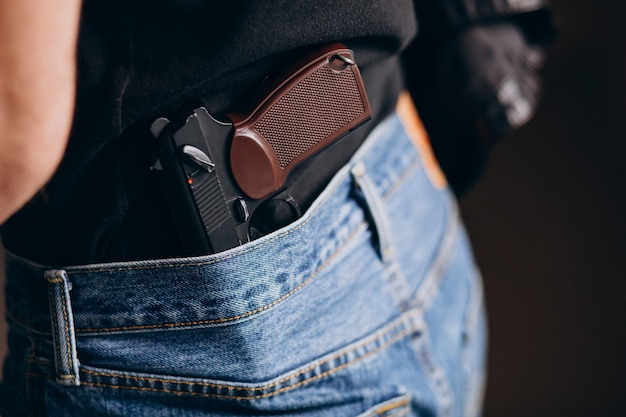gun: (149, 37, 373, 257)
